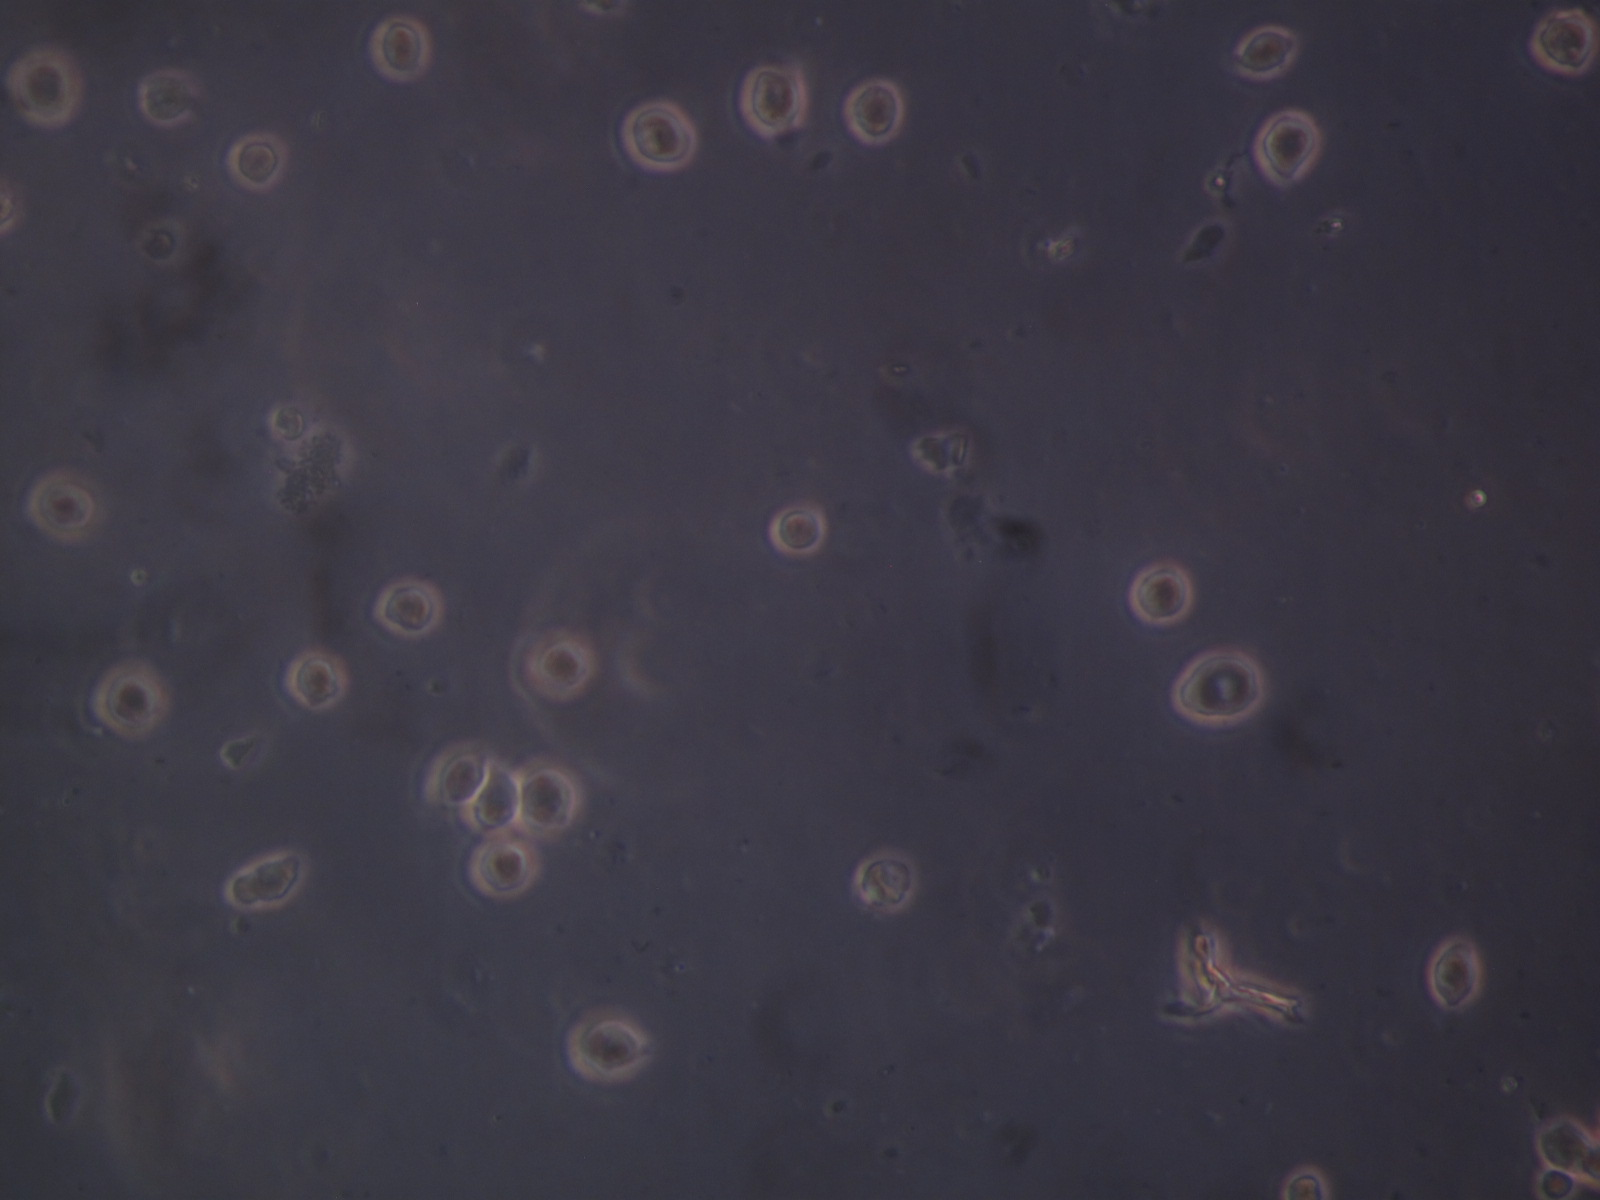hemo: (1172, 650, 1267, 727), (92, 661, 173, 737), (1252, 105, 1323, 188), (621, 97, 698, 171), (567, 1008, 644, 1083), (1527, 8, 1597, 81), (517, 759, 580, 838), (741, 66, 810, 136), (226, 850, 305, 910), (13, 53, 79, 125), (372, 579, 447, 640), (524, 635, 593, 702), (466, 836, 540, 897), (844, 76, 906, 149), (31, 473, 98, 539), (423, 740, 490, 805), (1128, 561, 1192, 628), (464, 760, 522, 832), (370, 16, 430, 84), (854, 850, 916, 913), (289, 649, 351, 708), (1232, 26, 1298, 83), (1429, 937, 1480, 1008), (226, 137, 289, 192), (1537, 1118, 1592, 1177), (770, 504, 826, 561), (141, 69, 193, 126), (266, 401, 307, 444), (1283, 1165, 1329, 1200), (1536, 1170, 1582, 1200)
